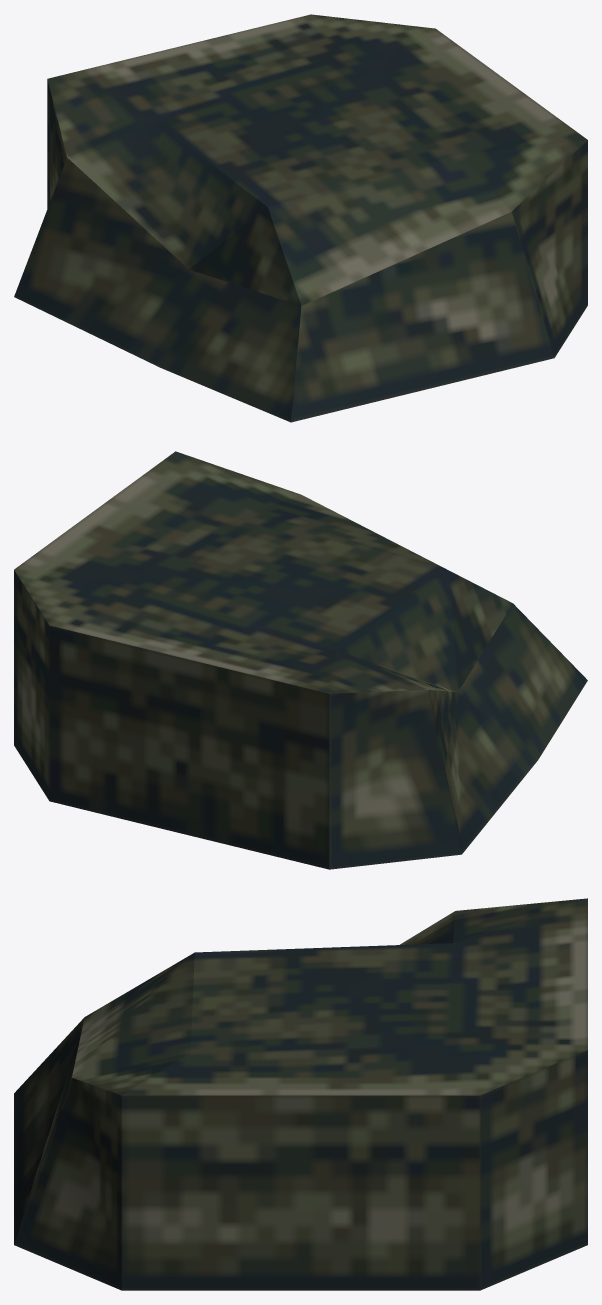
The model's file is ObjMD_Daiseido_Remain_PillarBase_C.FBX.
3 renders of one model, top to bottom at view 1: azimuth 30°, elevation 25°; view 2: azimuth 150°, elevation 25°; view 3: azimuth 270°, elevation 25°, orthographic. The views are drawn at different scales.
Parts seen in each view (by area): view 1: ObjMD_Daiseido_Remain_PillarBase_C; view 2: ObjMD_Daiseido_Remain_PillarBase_C; view 3: ObjMD_Daiseido_Remain_PillarBase_C.
Part boxes in pixels (left/top/right/bottom): ObjMD_Daiseido_Remain_PillarBase_C: left=14, top=14, right=587, bottom=422; ObjMD_Daiseido_Remain_PillarBase_C: left=14, top=451, right=587, bottom=869; ObjMD_Daiseido_Remain_PillarBase_C: left=14, top=898, right=587, bottom=1290.
Bounding box in the file's own units: 200 × 75 × 200.
